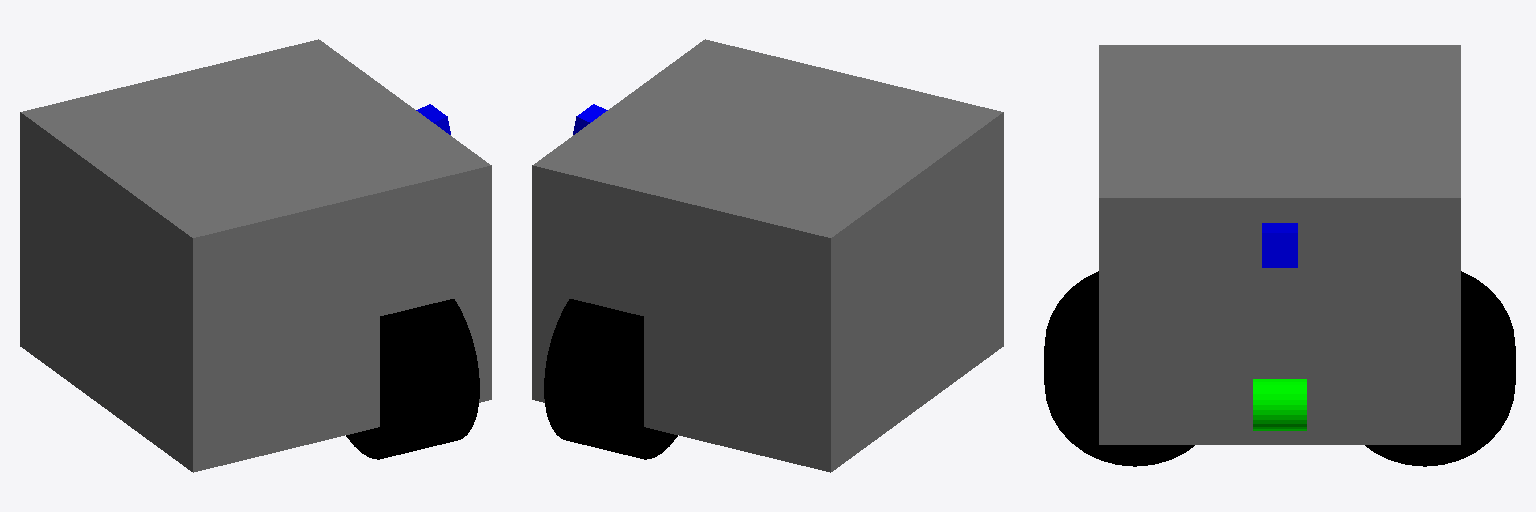
URDF robot description (tracked_robot):
<?xml version="1.0"?>
<robot name="tracked_robot">

  <!-- ==============================
       BASE LINK
       ============================== -->
  <link name="base_link">
    <visual>
      <origin xyz="0 0 0.10" rpy="0 0 0"/>
      <geometry><box size="0.20 0.20 0.15"/></geometry>
      <material name="gray"><color rgba="0.5 0.5 0.5 1"/></material>
    </visual>

    <collision>
      <origin xyz="0 0 0.10" rpy="0 0 0"/>
      <geometry><box size="0.20 0.20 0.15"/></geometry>
    </collision>

    <inertial>
      <origin xyz="0 0 0.10" rpy="0 0 0"/>
      <mass value="5"/>
      <inertia ixx="0.052" iyy="0.052" izz="0.052" ixy="0" ixz="0" iyz="0"/>
    </inertial>
  </link>

  <!-- ==============================
       LEFT / RIGHT TRACKS
       ============================== -->
  <link name="left_track">
    <visual>
      <origin xyz="0 0 0.05" rpy="0 0 0"/>
      <geometry><cylinder radius="0.05" length="0.05"/></geometry>
      <material name="black"><color rgba="0 0 0 1"/></material>
    </visual>
    <collision>
      <origin xyz="0 0 0.05" rpy="0 0 0"/>
      <geometry><cylinder radius="0.05" length="0.05"/></geometry>
    </collision>
    <inertial>
      <origin xyz="0 0 0.05" rpy="0 1.5708 0"/>
      <mass value="1"/>
      <inertia ixx="0.001" iyy="0.001" izz="0.001" ixy="0" ixz="0" iyz="0"/>
    </inertial>
  </link>

  <link name="right_track">
    <visual>
      <origin xyz="0 0 0.05" rpy="0 0 0"/>
      <geometry><cylinder radius="0.05" length="0.05"/></geometry>
      <material name="black"><color rgba="0 0 0 1"/></material>
    </visual>
    <collision>
      <origin xyz="0 0 0.05" rpy="0 0 0"/>
      <geometry><cylinder radius="0.05" length="0.05"/></geometry>
    </collision>
    <inertial>
      <origin xyz="0 0 0.05" rpy="0 1.5708 0"/>
      <mass value="1"/>
      <inertia ixx="0.001" iyy="0.001" izz="0.001" ixy="0" ixz="0" iyz="0"/>
    </inertial>
  </link>

  <joint name="left_track_joint" type="continuous">
    <parent link="base_link"/>
    <child link="left_track"/>
    <origin xyz="0 0.08 0.05" rpy="0 1.5708 0"/>
    <axis xyz="0 1 0"/>
  </joint>

  <joint name="right_track_joint" type="continuous">
    <parent link="base_link"/>
    <child link="right_track"/>
    <origin xyz="0 -0.08 0.05" rpy="0 1.5708 0"/>
    <axis xyz="0 1 0"/>
  </joint>

  <!-- ==============================
       CAMERA
       - camera_link: geometria fisica del modulo
       - camera_joint: montaggio fisico (pitch = -30°)
       - camera_optical_frame: frame ottico secondo REP-103 (NON modificare)
       ============================== -->
  <link name="camera_link">
    <visual>
      <origin xyz="0 0 0" rpy="0 0 0"/>
      <geometry><box size="0.05 0.02 0.02"/></geometry>
      <material name="blue"><color rgba="0 0 1 1"/></material>
    </visual>
    <collision>
      <origin xyz="0 0 0" rpy="0 0 0"/>
      <geometry><box size="0.05 0.02 0.02"/></geometry>
    </collision>
    <inertial>
      <origin xyz="0 0 0" rpy="0 0 0"/>
      <mass value="0.1"/>
      <inertia ixx="0.0001" iyy="0.0001" izz="0.0001" ixy="0" ixz="0" iyz="0"/>
    </inertial>
  </link>

  <!-- camera montata con pitch = -30° (verso il basso) -->
  <joint name="camera_joint" type="fixed">
    <parent link="base_link"/>
    <child link="camera_link"/>
    <!-- pitch = -30° = -0.5235987755982988 rad -->
    <origin xyz="0.10 0.0 0.15" rpy="0 -0.2 0"/>
  </joint>

  <link name="camera_optical_frame"/>

  <!-- Rotazione REP-103 tra camera_link e camera_optical_frame: lasciare così -->
  <joint name="camera_optical_joint" type="fixed">
    <parent link="camera_link"/>
    <child link="camera_optical_frame"/>
    <origin xyz="0 0 0" rpy="-1.5708 0 -1.5708"/> 
    <!-- <origin xyz="0 0 0" rpy="0 0 0"/> -->

  </joint>

  <!-- ==============================
       IMU (integrata su OAK-D Lite)
       - Nota: la IMU fisicamente è montata sulla stessa board della camera,
         ma non applichiamo correzioni sugli assi nel URDF. La rimappatura
         device->ROS (x, -y, -z) va fatta nel software (Madgwick / publisher).
       ============================== -->
  <link name="imu_link">
    <inertial>
      <origin xyz="0 0 0" rpy="0 0 0"/>
      <mass value="0.01"/>
      <inertia ixx="1e-6" iyy="1e-6" izz="1e-6" ixy="0" ixz="0" iyz="0"/>
    </inertial>
  </link>

  <!-- IMU joint: posizione corretta ma senza rotazioni -->
  <joint name="imu_joint" type="fixed">
    <!-- <parent link="base_link"/> -->
    <parent link="base_link"/>
    <child link="imu_link"/>
    <!-- posizione relativa (adatta se vuoi spostare) -->
    <!--<origin xyz="0.10 0.0 0.05" rpy="0 0 0"/>-->
    <!-- <origin xyz="0.10 0.0 0.15" rpy="0 -0.2 0"/> -->
    <origin xyz="0.10 0.0 0.15" rpy="0 -0.2 0"/>

  </joint>

  <!-- ==============================
       ULTRASONIC
       ============================== -->
  <link name="ultrasonic_link">
    <visual>
      <geometry><cylinder radius="0.015" length="0.03"/></geometry>
      <material name="green"><color rgba="0 1 0 1"/></material>
    </visual>
    <collision>
      <geometry><cylinder radius="0.015" length="0.03"/></geometry>
    </collision>
    <inertial>
      <origin xyz="0 0 0" rpy="0 0 0"/>
      <mass value="0.1"/>
      <inertia ixx="0.0001" iyy="0.0001" izz="0.0001" ixy="0" ixz="0" iyz="0"/>
    </inertial>
  </link>

  <joint name="ultrasonic_joint" type="fixed">
    <parent link="base_link"/>
    <child link="ultrasonic_link"/>
    <origin xyz="0.1 0.0 0.05" rpy="1.5708 0 0"/>
  </joint>

</robot>

--- What the picture shows (computed from the rendered views, not written in the file) ---
Views: 3 orthographic renders of the robot side by side, from view 1: azimuth 30°, elevation 25°; view 2: azimuth 150°, elevation 25°; view 3: azimuth 270°, elevation 25°.
Model tracked_robot with 7 links and 6 joints (2 continuous, 4 fixed), rooted at base_link, posed all joints at 0.
Visible links, largest first — view 1: base_link, right_track; view 2: base_link, left_track; view 3: base_link, left_track, right_track, ultrasonic_link, camera_link.
Boxes of the visible links, x1,y1,x2,y2 form: base_link: (20, 39, 491, 472); right_track: (346, 299, 479, 459); base_link: (532, 39, 1003, 472); left_track: (544, 299, 677, 459); base_link: (1099, 45, 1460, 444); left_track: (1365, 271, 1515, 466); right_track: (1044, 271, 1194, 466); ultrasonic_link: (1253, 379, 1306, 430); camera_link: (1262, 223, 1297, 267).
Size in the robot's own frame: 0.2265 by 0.26 by 0.175 metres.
Geometry: primitives only (box / cylinder / sphere), no mesh files.
